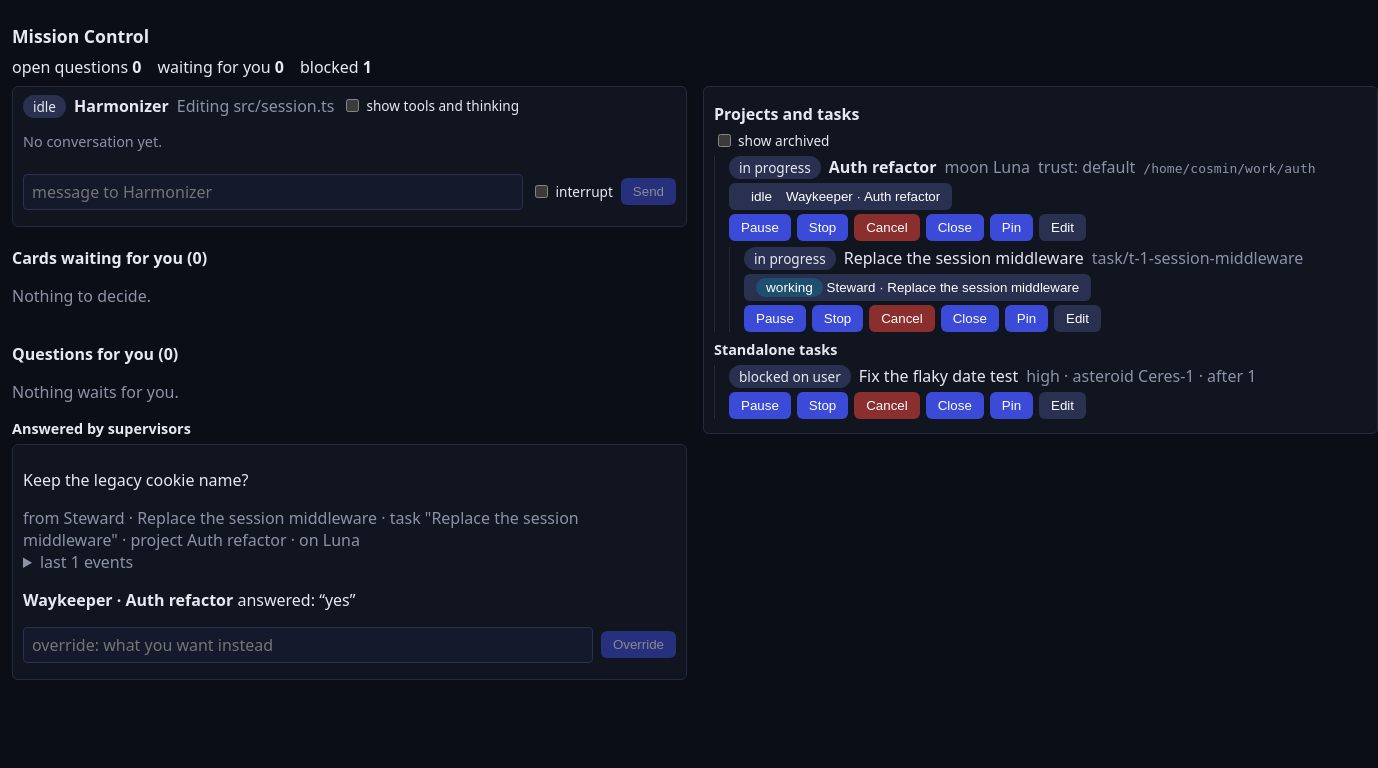
it: question inbox (P2-18) › shows a supervisor's answer read-only with an override that tells that supervisor
Expected: the element named "answered question Keep the legacy cookie name?" shows "Waykeeper · Auth refactor answered: “yes”", 12,444 -> 687,680
Type "rename it to sid" into the field labelled "override" at (308, 645), box 23,627 -> 593,663
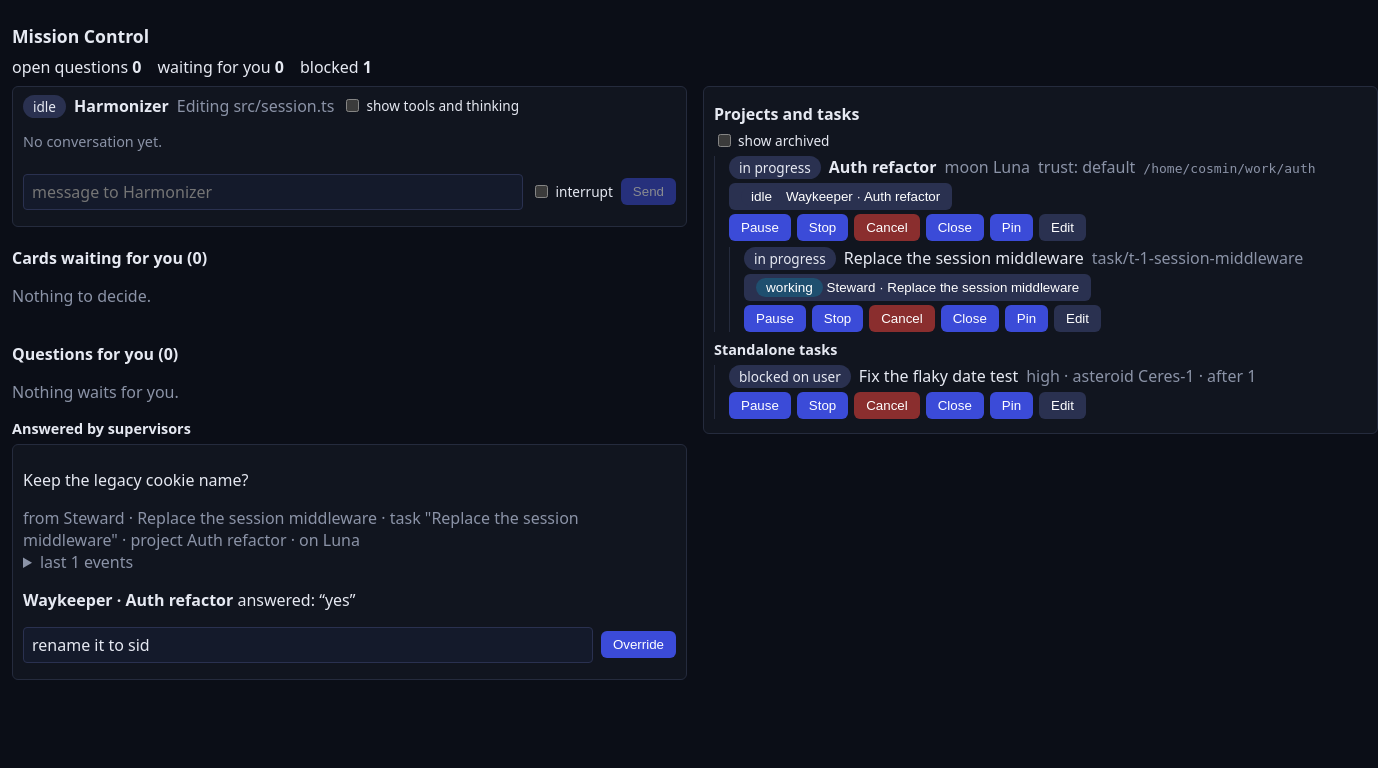
Click the button "Override" at (638, 645), box 601,631 -> 676,658
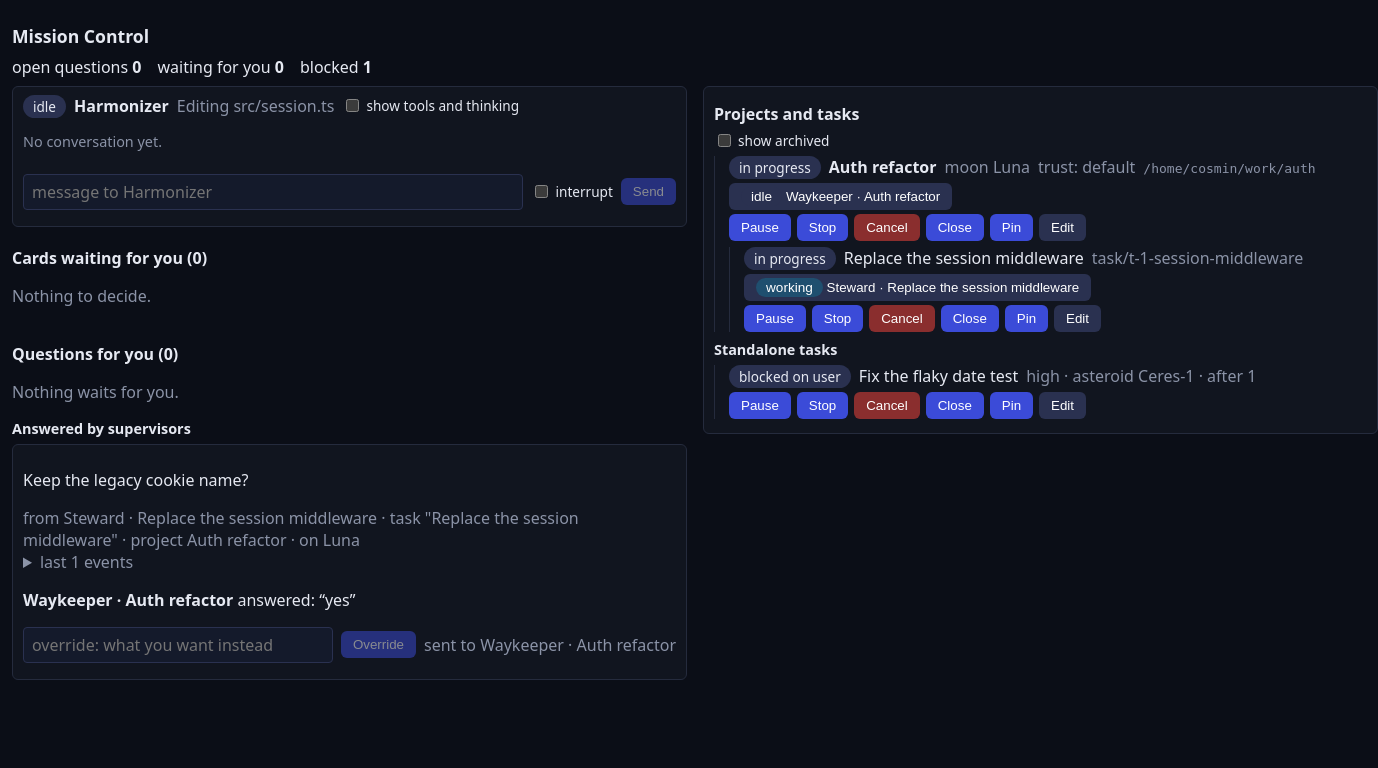
Expected: the text "sent to Waykeeper · Auth refactor" is shown, 424,634 -> 676,656
